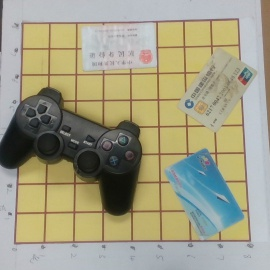card: (162, 149, 244, 240), (176, 46, 257, 135), (80, 22, 157, 69)
remote: (1, 87, 142, 220)
